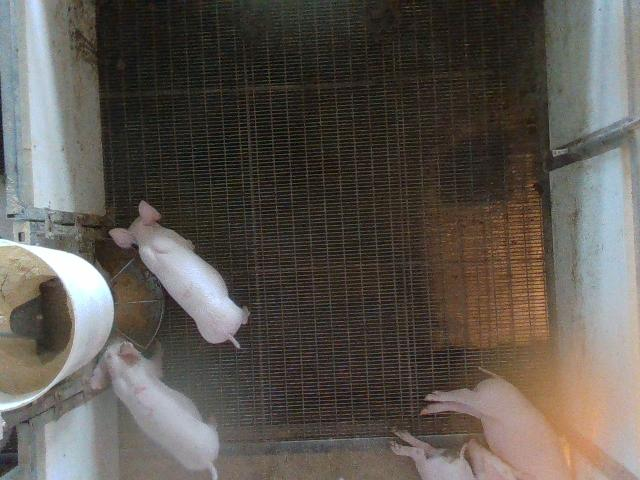pig-5: (91, 342, 219, 478)
